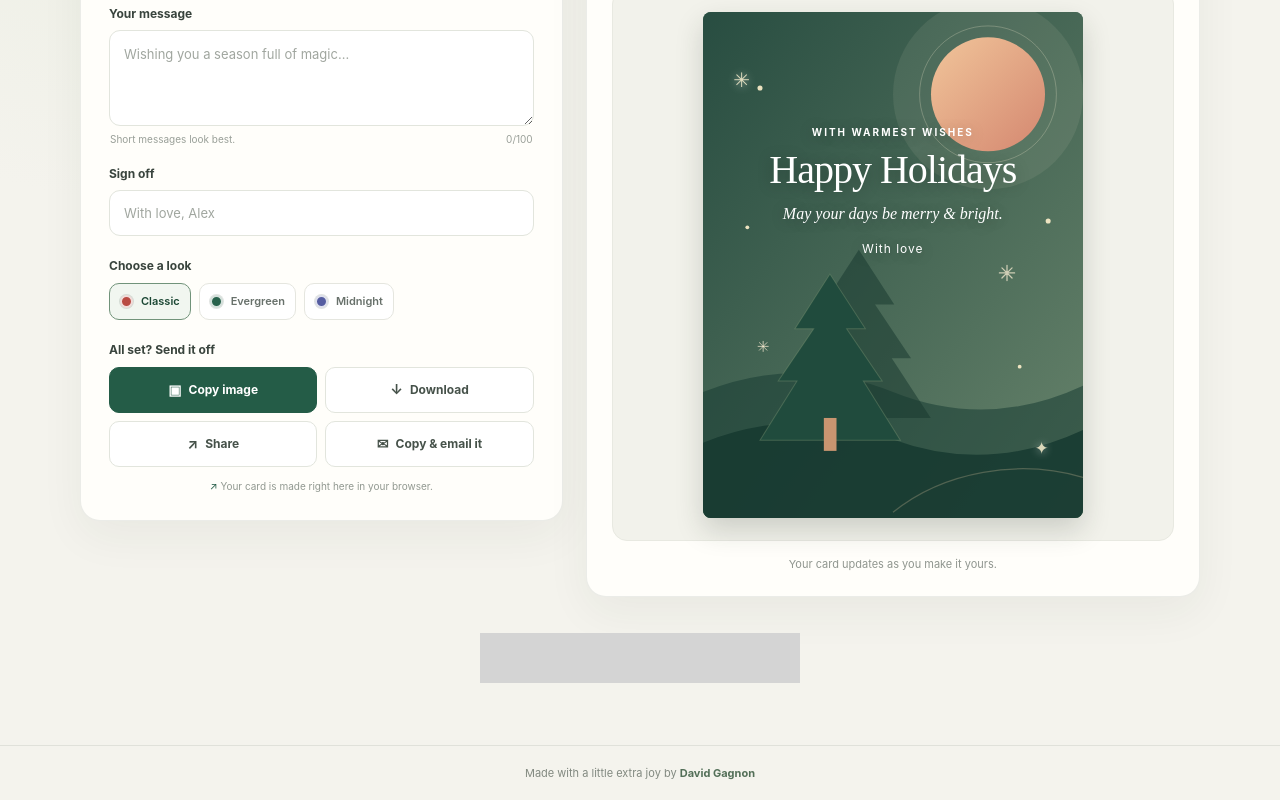
Test case: copy & email generates the card, copies it, and opens a mail tab with paste instructions
(page scrolled)
Click the button with class "email-action": (429, 444) [325, 421, 534, 467]
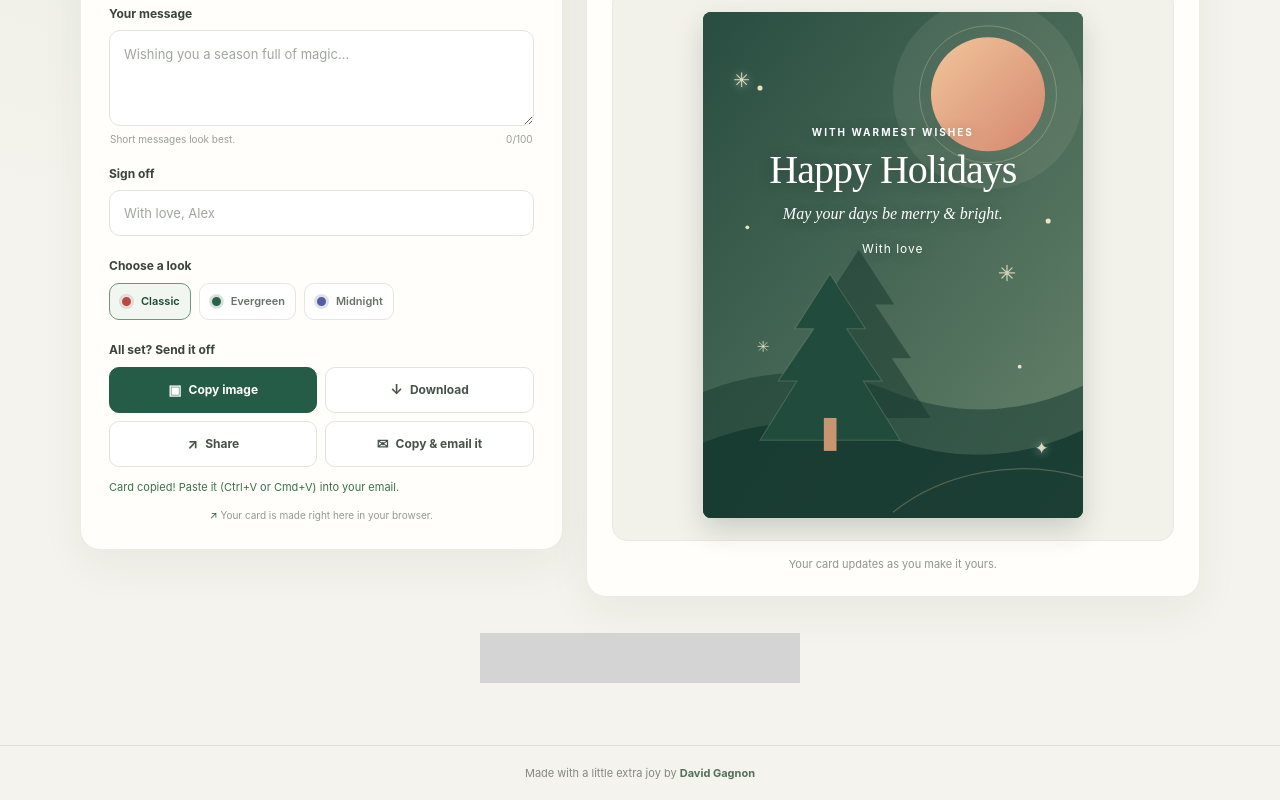
Now the message "Card copied! Paste it (Ctrl+V or Cmd+V) into your email." is shown, box [109, 480, 399, 494]
